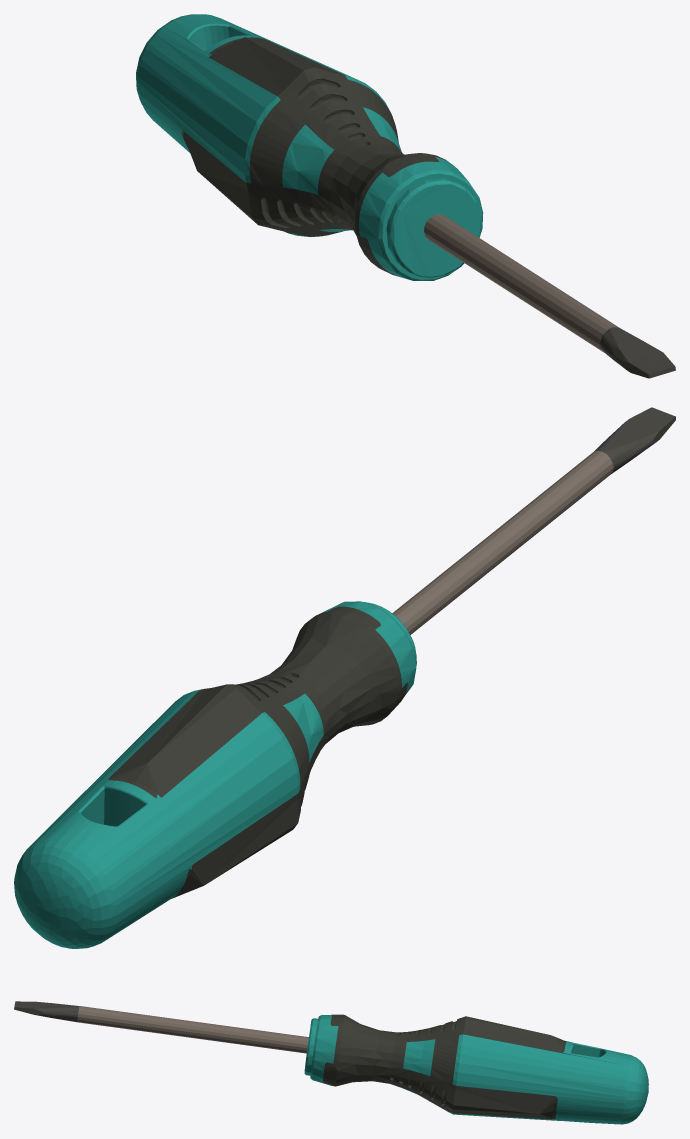
Rendered from Senza.dae.
3 renders of one model, top to bottom at view 1: azimuth 30°, elevation 25°; view 2: azimuth 150°, elevation 25°; view 3: azimuth 270°, elevation 25°, orthographic. The views are drawn at different scales.
Visible parts, largest first — view 1: D9010Man (×4), D9010Pun, D9010Tip; view 2: D9010Man (×4), D9010Pun, D9010Tip; view 3: D9010Man (×4), D9010Pun, D9010Tip.
Boxes of the visible parts, bbox=[...] form: D9010Man (×4): bbox=[136, 14, 483, 280]; D9010Pun: bbox=[424, 214, 620, 353]; D9010Tip: bbox=[600, 327, 675, 378]; D9010Man (×4): bbox=[14, 601, 416, 948]; D9010Pun: bbox=[392, 450, 613, 634]; D9010Tip: bbox=[594, 407, 675, 473]; D9010Man (×4): bbox=[304, 1014, 648, 1124]; D9010Pun: bbox=[77, 1006, 308, 1053]; D9010Tip: bbox=[14, 1001, 79, 1022].
Bounding box in the file's own units: 1.75 × 9.25 × 1.51.
